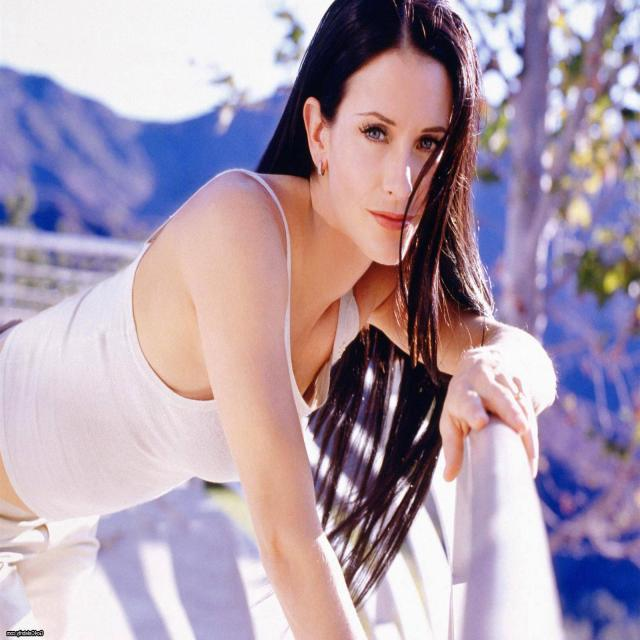no-earmuff: (294, 89, 342, 194)
